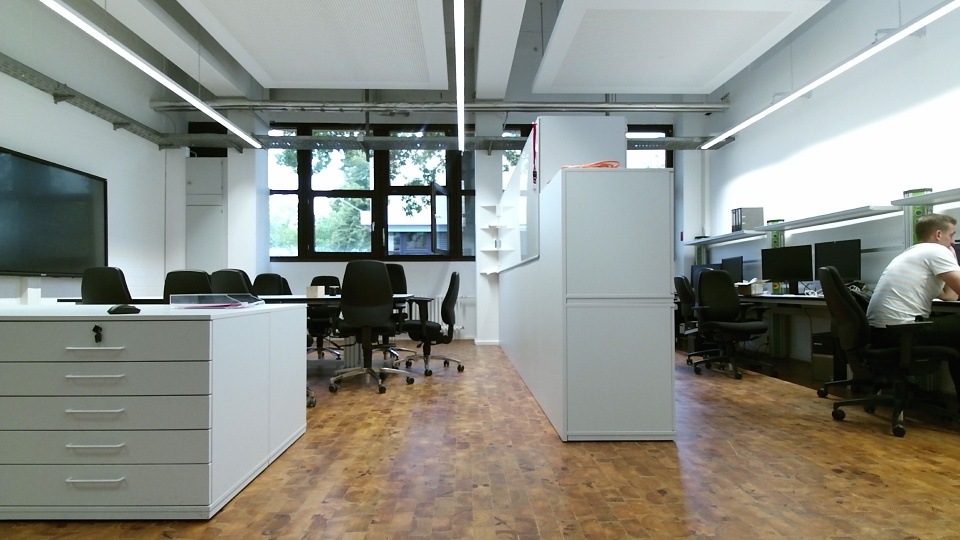person: (855, 200, 960, 432)
